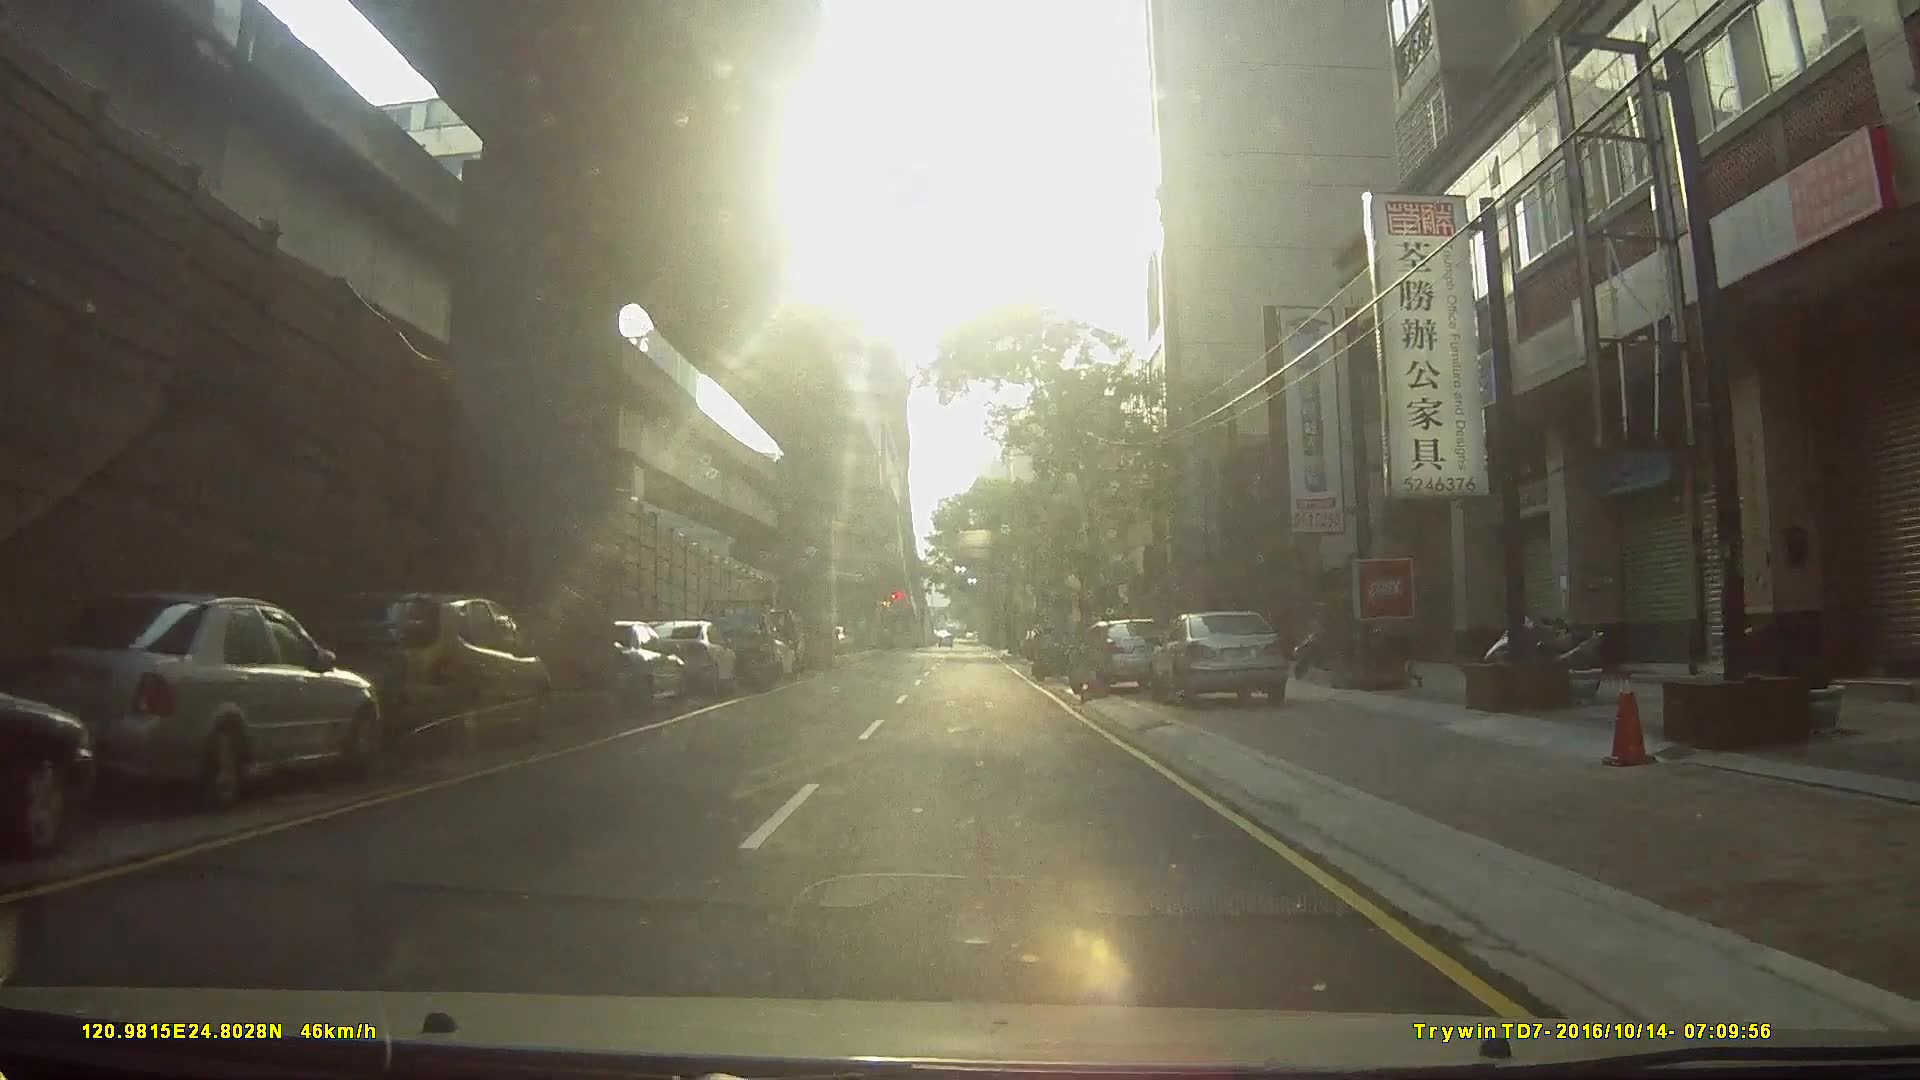rider: (1030, 625, 1075, 680)
vehicle: (0, 589, 364, 817), (286, 586, 545, 762), (1, 683, 109, 864), (1149, 607, 1296, 709), (567, 616, 685, 717), (690, 595, 779, 690), (1070, 615, 1175, 694), (635, 617, 739, 694)
